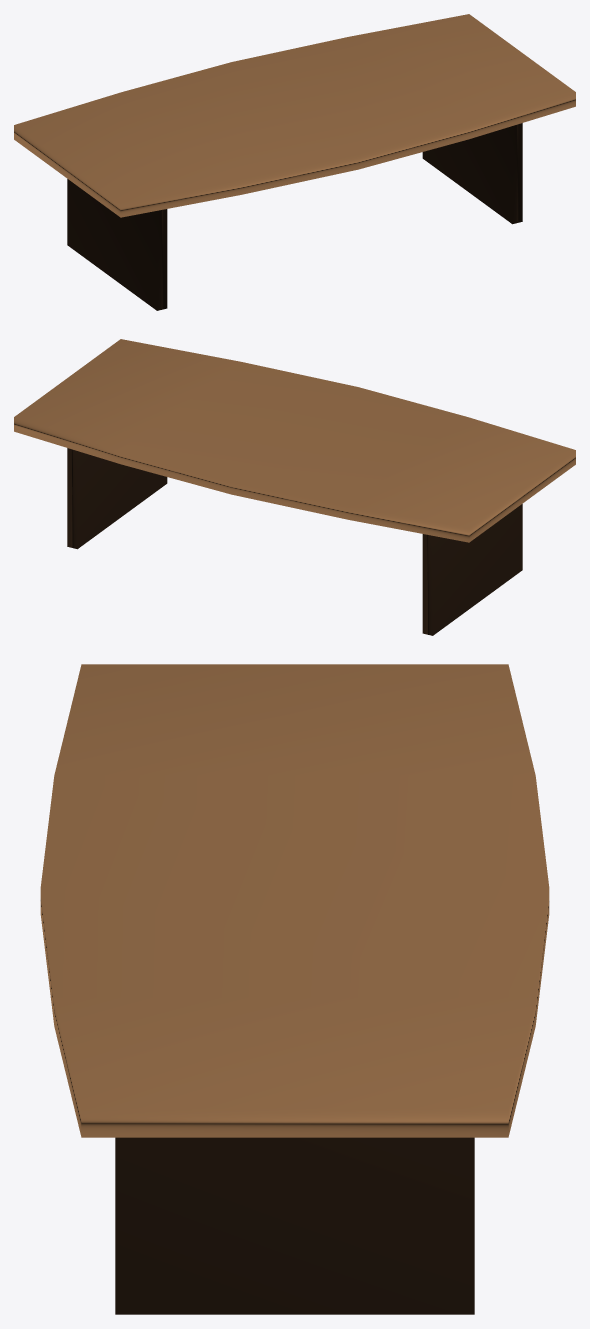
File: SM_Table.fbx
3 views of the same model, one above another, from view 1: azimuth 30°, elevation 25°; view 2: azimuth 150°, elevation 25°; view 3: azimuth 270°, elevation 25° (orthographic). The views are drawn at different scales.
Visible parts, largest first — view 1: SM_Table; view 2: SM_Table; view 3: SM_Table.
Boxes of the visible parts, x1=… form: SM_Table: x1=14, y1=14, x2=575, y2=310; SM_Table: x1=14, y1=339, x2=575, y2=635; SM_Table: x1=40, y1=664, x2=549, y2=1314.
Bounding box in the file's own units: 2.83 × 0.7425 × 1.37.
1 material, 1 textured.
